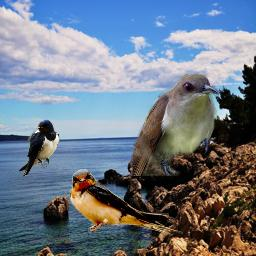Cuckoo: (131, 74, 219, 176)
Swallow: (68, 169, 183, 239), (18, 119, 60, 178)
